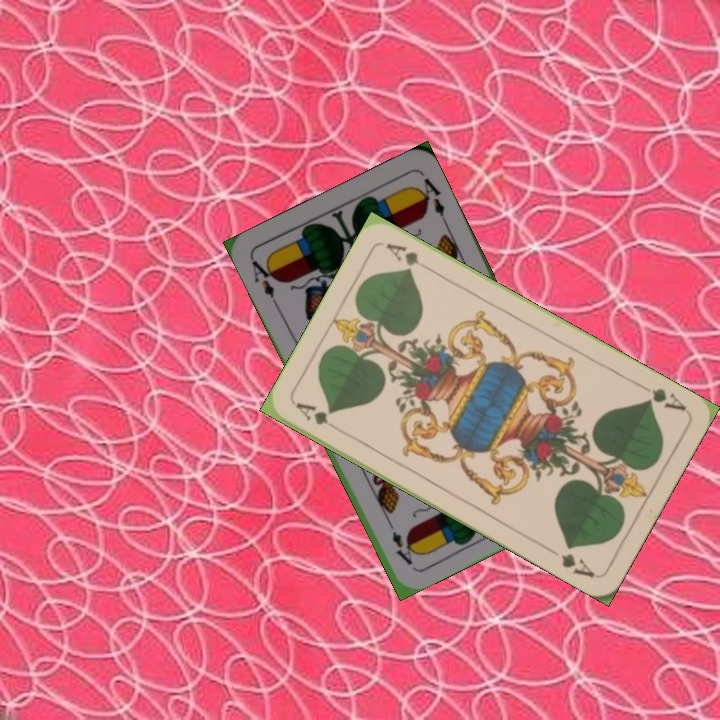EA: (247, 255, 281, 310)
GA: (636, 379, 690, 414), (292, 398, 344, 434)
